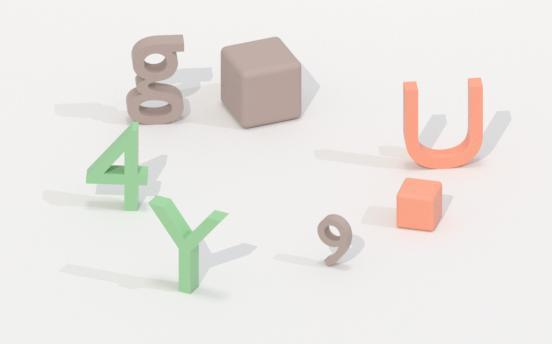chu_khoi: (149, 196, 227, 292), (403, 78, 482, 168), (126, 35, 183, 123)
lap_phuong: (221, 37, 301, 127), (396, 178, 442, 230)
so_khoi: (86, 122, 148, 210), (317, 214, 352, 265)
